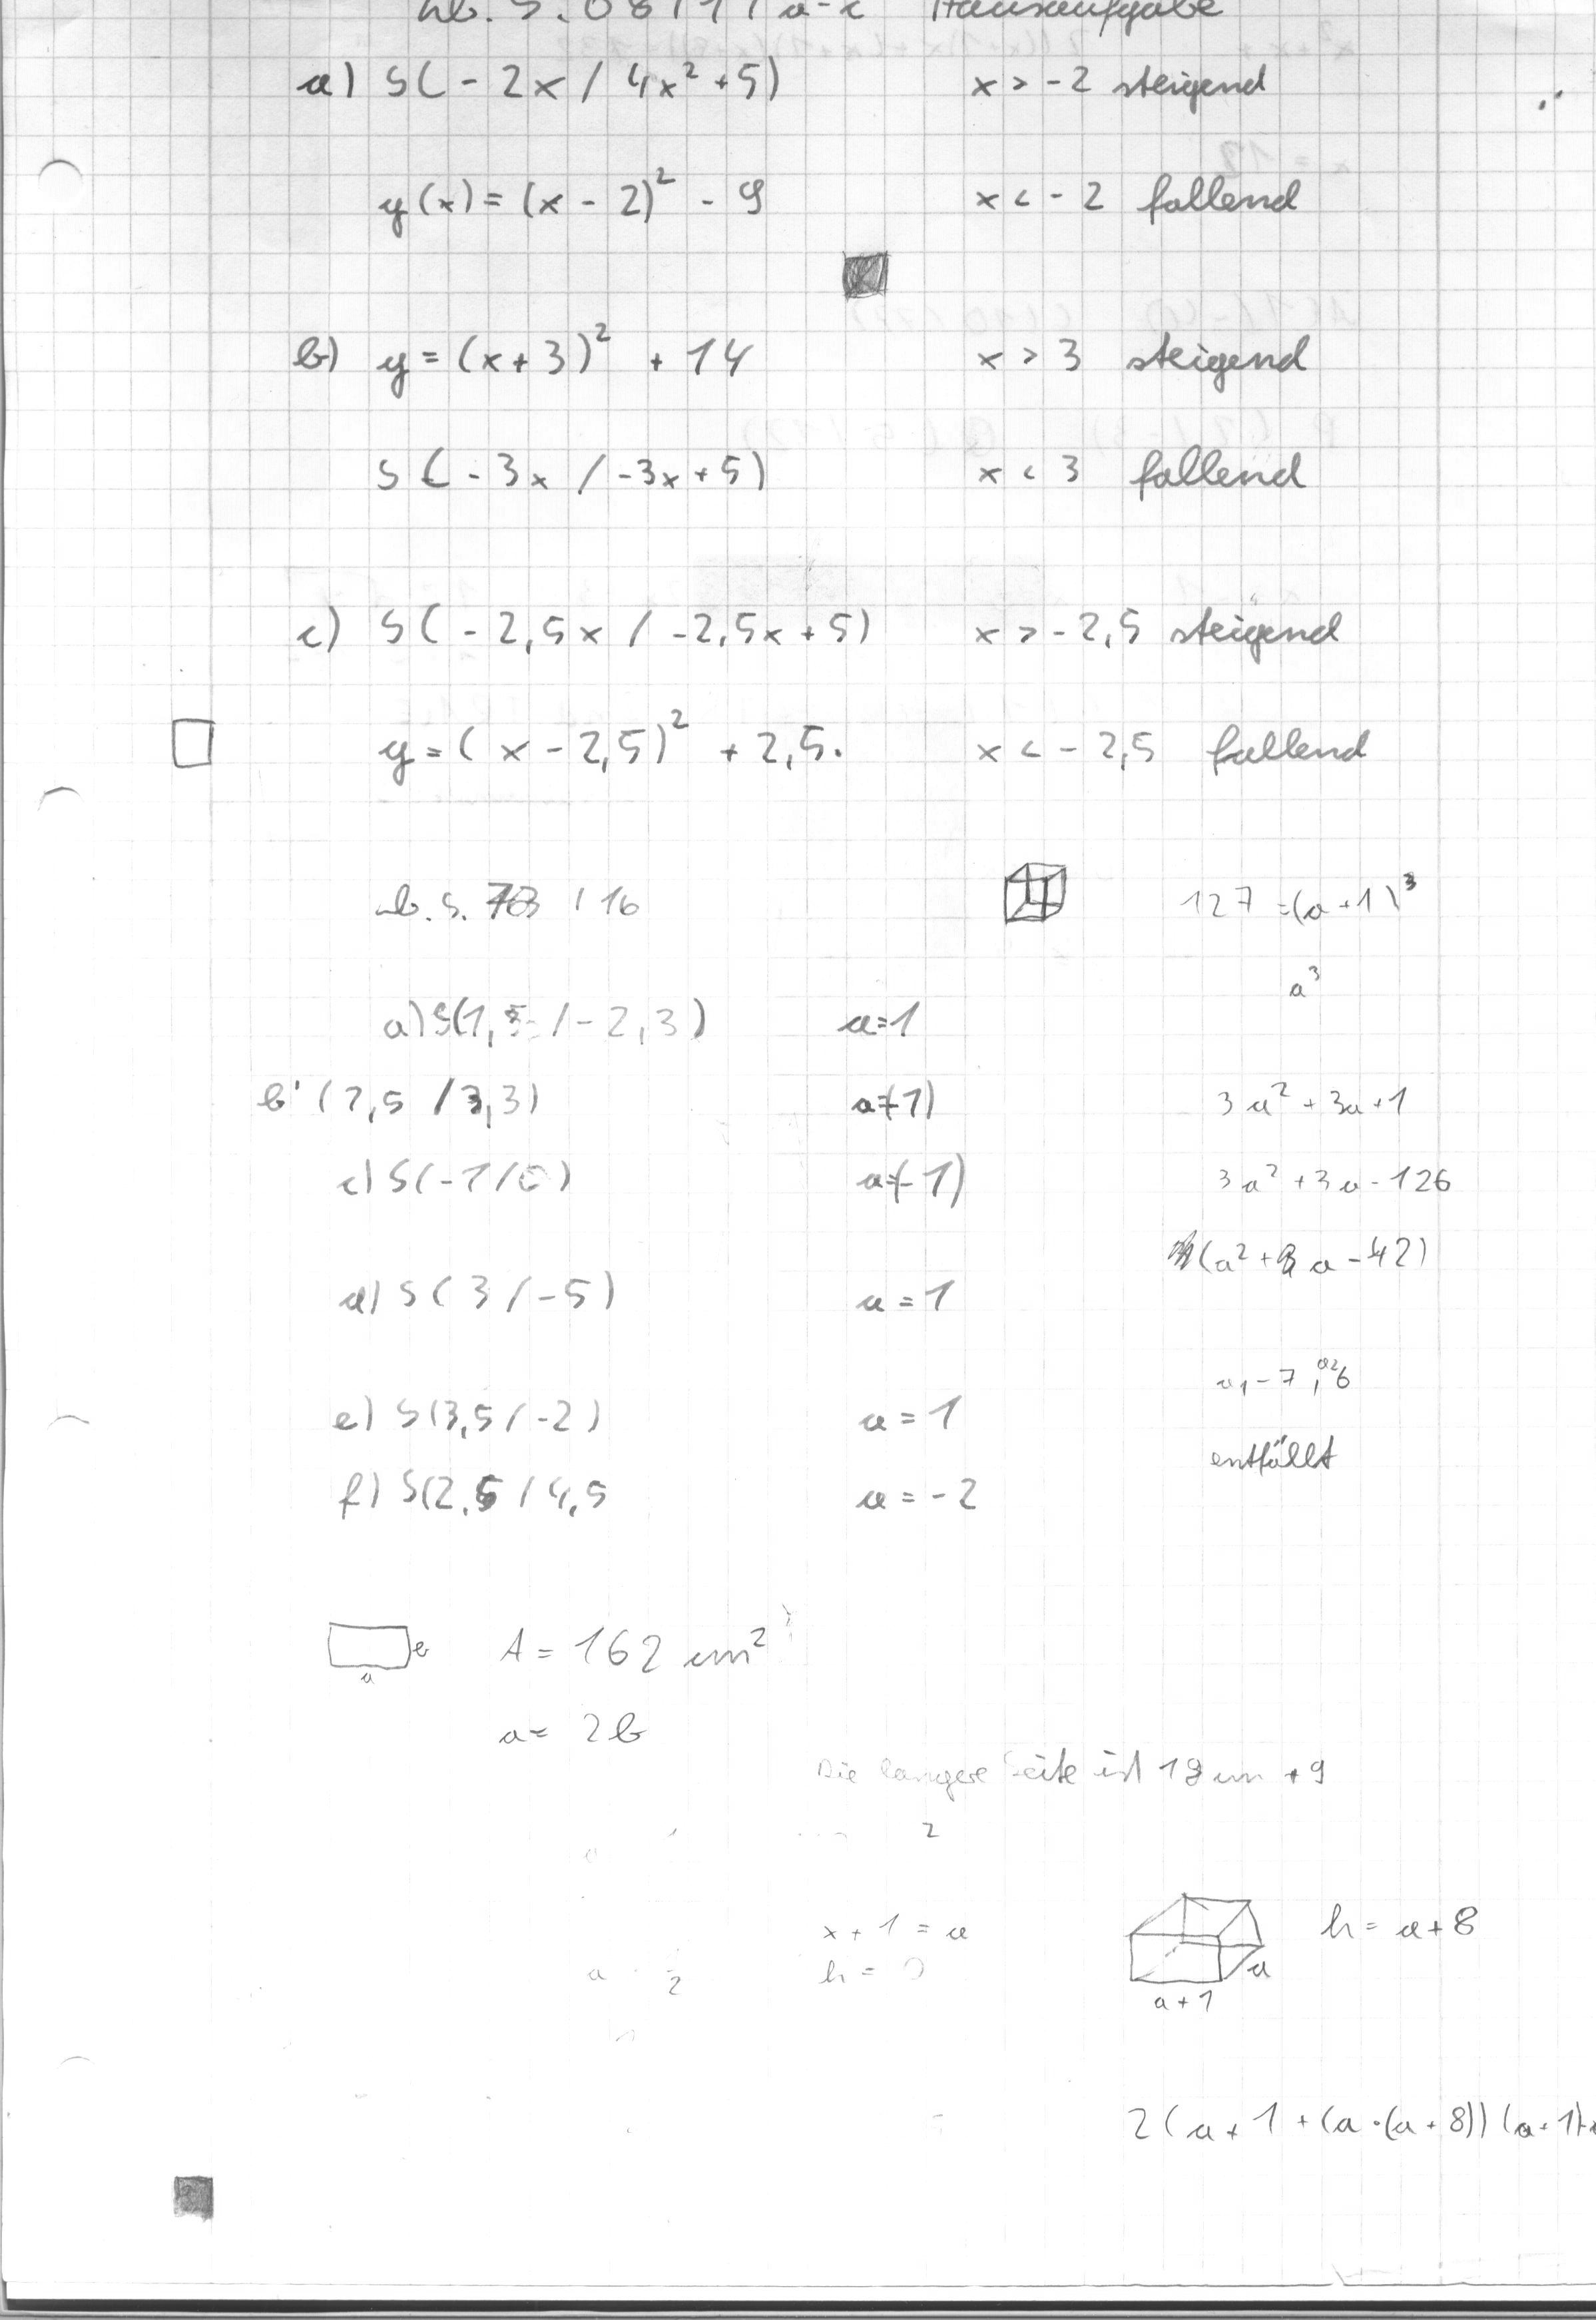word: (348, 569, 892, 828), (947, 577, 1386, 808), (362, 38, 798, 252), (360, 312, 790, 520), (932, 330, 1319, 549), (1140, 1060, 1479, 1298), (954, 47, 1318, 247), (1091, 2062, 1596, 2187), (467, 1578, 790, 1761), (300, 1371, 637, 1539), (309, 1241, 657, 1356), (307, 1061, 582, 1207), (816, 992, 985, 1220), (1167, 1329, 1365, 1489), (807, 1368, 997, 1536), (819, 1229, 1002, 1354)
